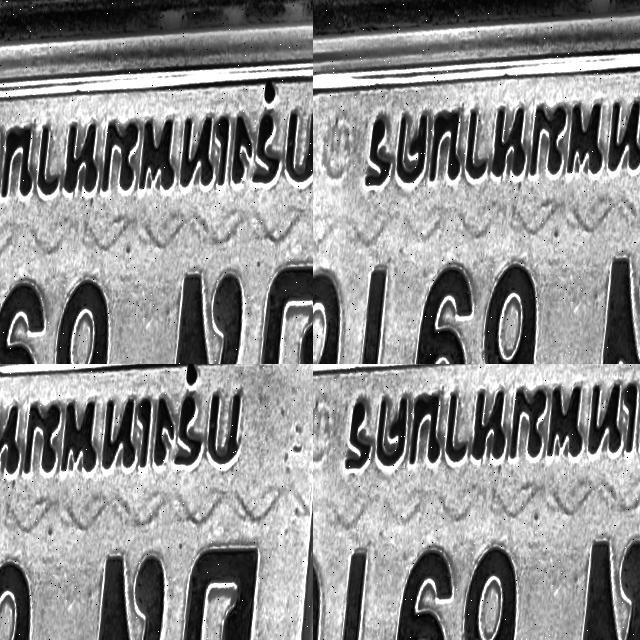license-plate: (313, 0, 640, 364), (313, 364, 640, 640), (135, 0, 269, 42)
